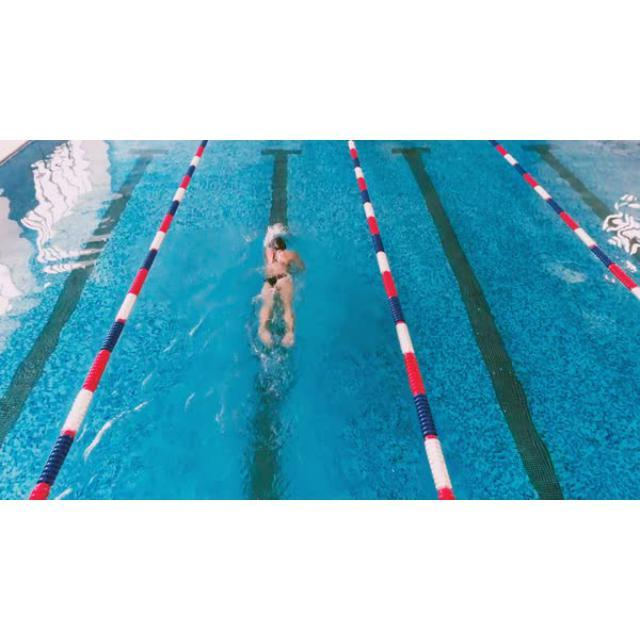human: (261, 223, 304, 347)
